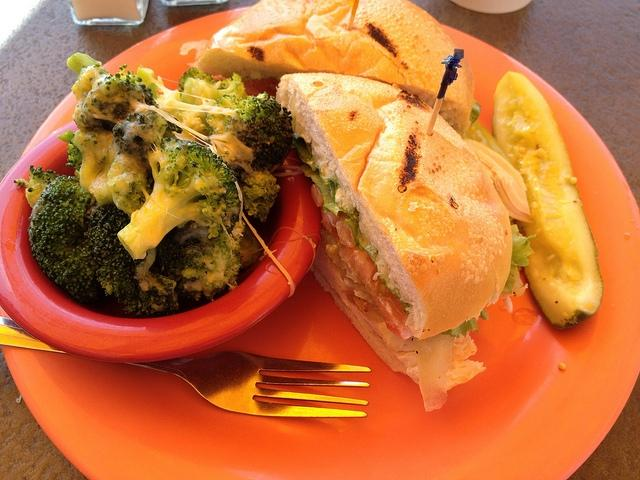broccoli: (118, 138, 242, 262), (27, 176, 99, 303), (202, 92, 296, 171), (72, 130, 154, 214), (160, 228, 240, 300), (112, 109, 168, 166), (181, 72, 248, 105), (238, 169, 280, 221), (14, 165, 60, 208), (56, 130, 82, 172)
lettuce: (302, 164, 360, 247), (503, 224, 536, 294), (440, 318, 480, 338), (469, 102, 481, 124)
tomato: (320, 207, 412, 341), (242, 78, 280, 100)
